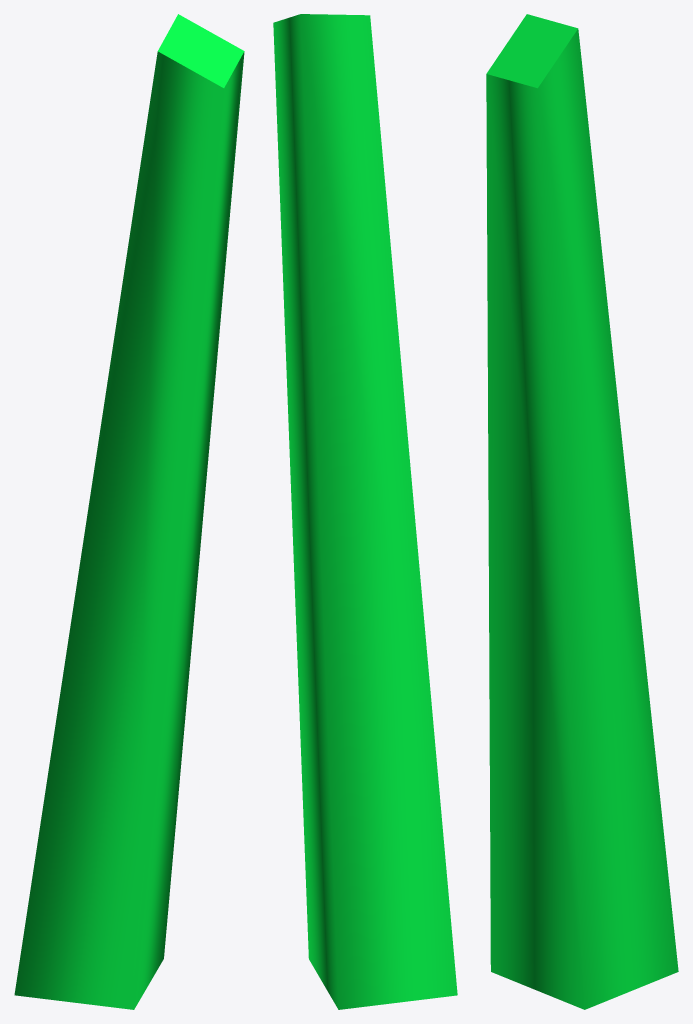
File: Plant03_c_col.FBX
The picture shows the model from 3 angles, left to right: view 1: azimuth 30°, elevation 25°; view 2: azimuth 150°, elevation 25°; view 3: azimuth 270°, elevation 25°; orthographic projection. The views are drawn at different scales.
Parts seen in each view (by area): view 1: Plant03_c_col; view 2: Plant03_c_col; view 3: Plant03_c_col.
Boxes of the visible parts, <box> form: Plant03_c_col: <box>14,14,244,1009</box>; Plant03_c_col: <box>273,14,457,1009</box>; Plant03_c_col: <box>486,14,678,1009</box>.
Size of the model in its own units: 75.88 by 330 by 58.2.
